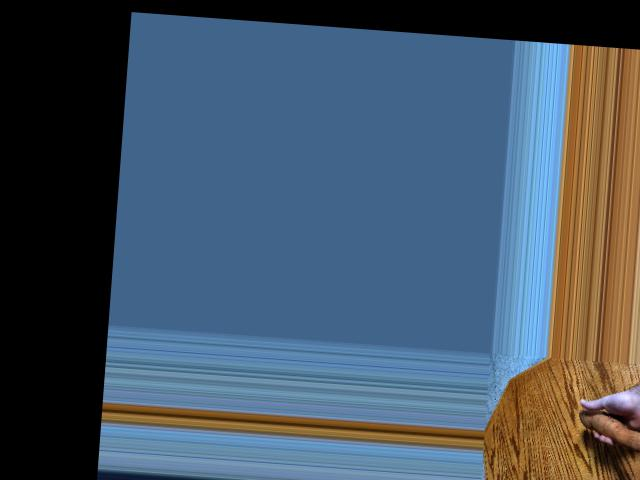sweet_potato: (573, 411, 640, 458)
